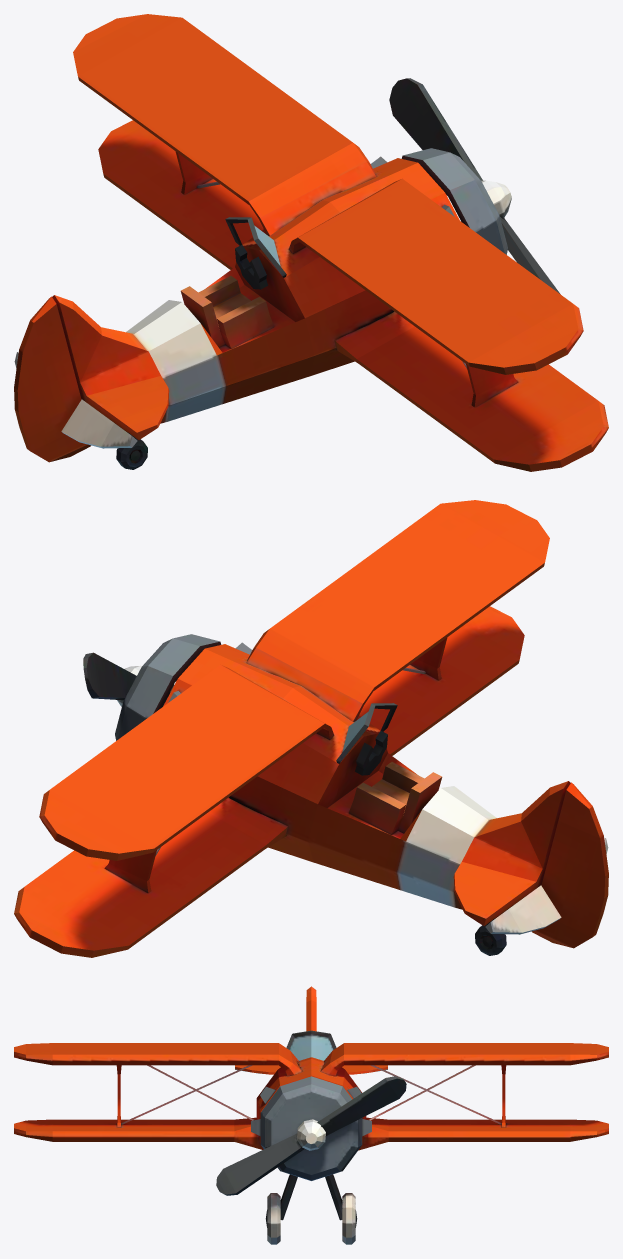
File: Airplane-transformed.glb
3 views of the same model, one above another, from view 1: azimuth 30°, elevation 25°; view 2: azimuth 150°, elevation 25°; view 3: azimuth 270°, elevation 25° (orthographic). The views are drawn at different scales.
Parts seen in each view (by area): view 1: PUSHILIN_Plane_Circle.000; view 2: PUSHILIN_Plane_Circle.000; view 3: PUSHILIN_Plane_Circle.000.
Boxes of the visible parts, box(x1,y1,x2,y2) form: PUSHILIN_Plane_Circle.000: box(14, 14, 608, 471); PUSHILIN_Plane_Circle.000: box(14, 500, 608, 957); PUSHILIN_Plane_Circle.000: box(14, 986, 608, 1244).
Bounding box in the file's own units: 2.43 × 1.21 × 3.78.
Materials: 1 (1 with a texture image).
